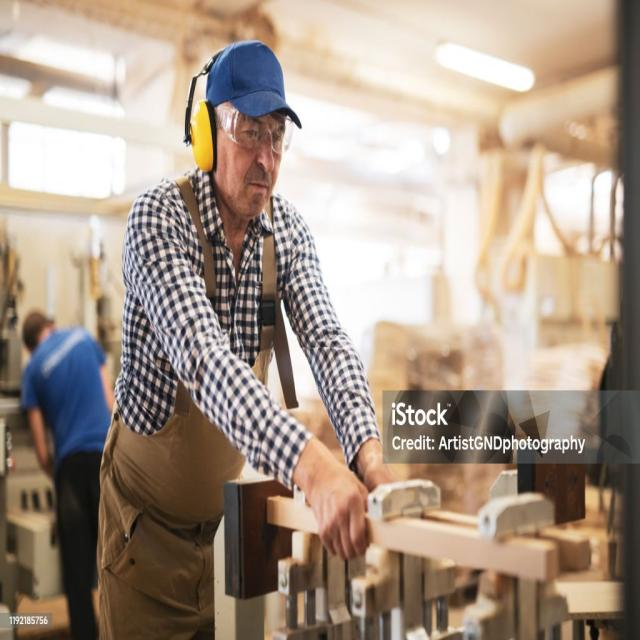goggles: (209, 102, 297, 160)
